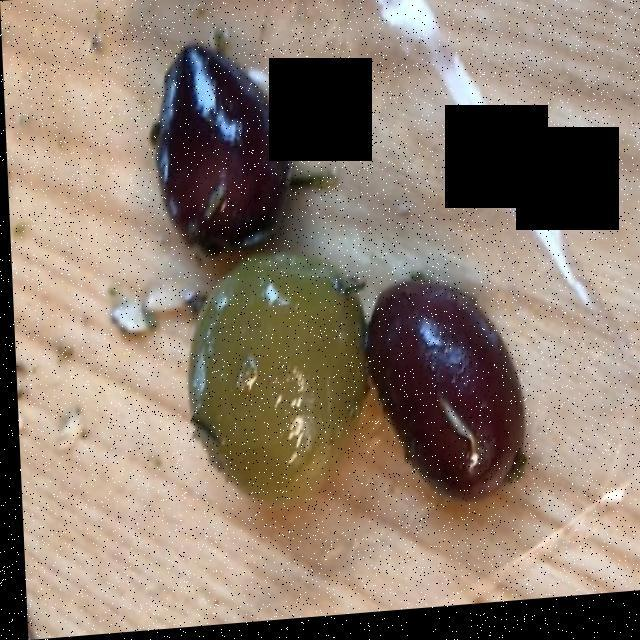black-olives: (160, 45, 519, 501)
green-olives: (186, 259, 360, 502)
